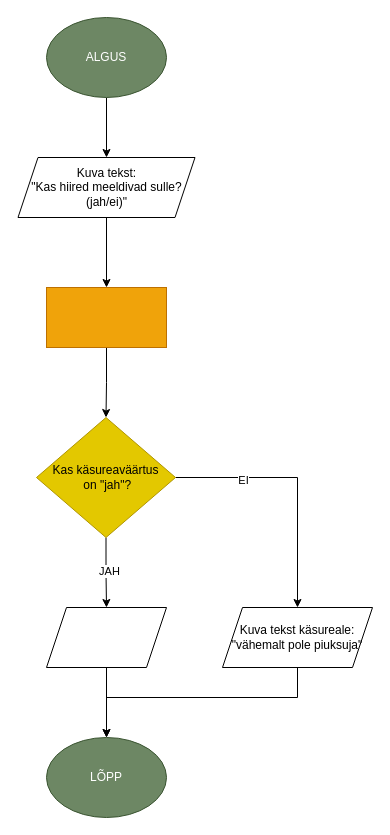
Image size: 390x835. Some labels were removed from this diagram. Here are the shapes that lost their labels. From the top down, the centre of each, then its label:
point 106,317: Oota kuni kasutaja sisestab väärtuse käsureale ja teisenda see väiketähtedeks.
point 106,637: Kuva tekst: "IUUUUU"
